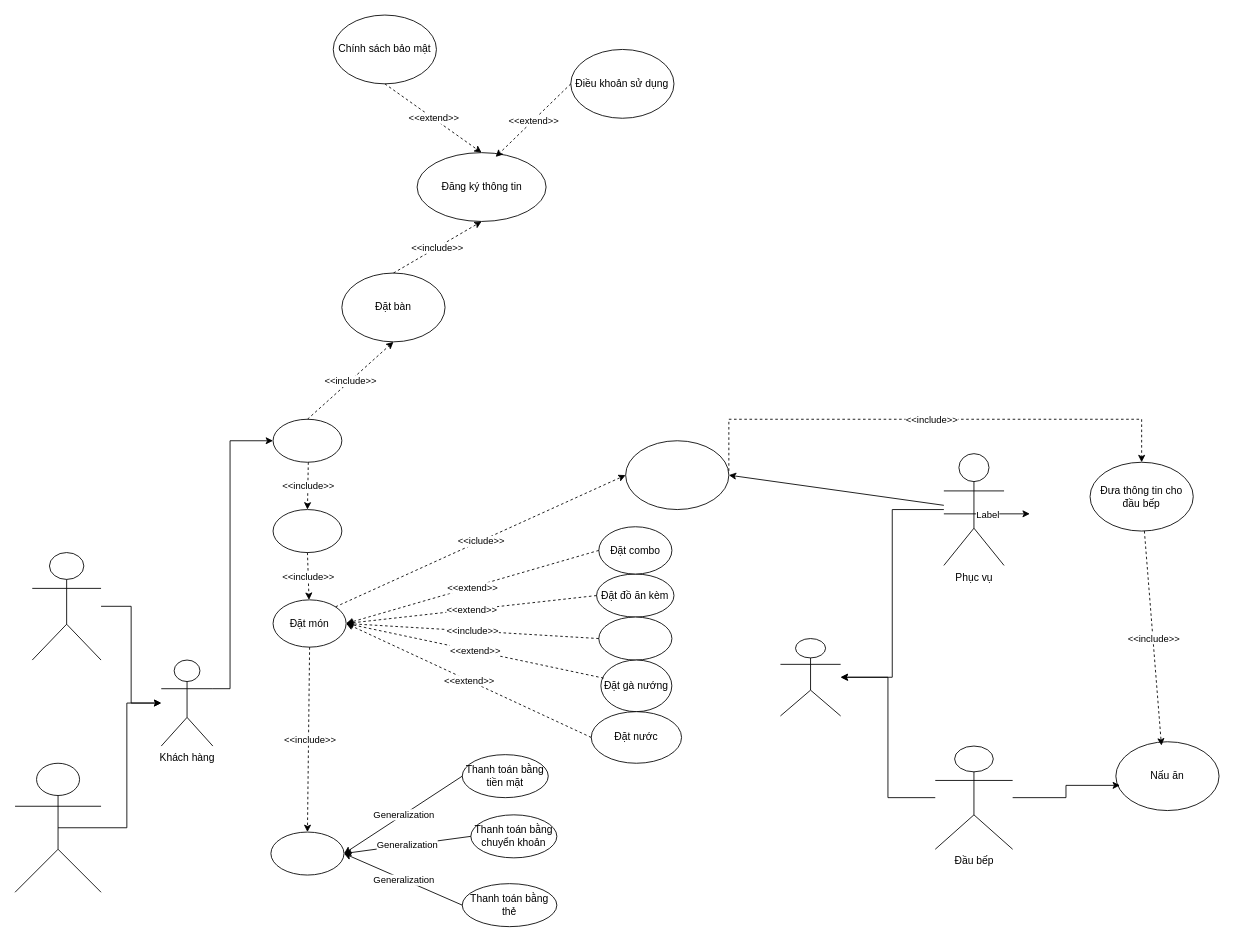
Image size: 1234x942. Some labels were removed from this diagram. The centre of each missing label's shape, as x and y in pixels:
"Khách hàng cũ" goes at point (57, 827).
"Khách hàng mới" goes at point (66, 606).
"Nhân viên" goes at point (810, 677).
"Thanh toán" goes at point (307, 853).
"Tiếp nhận thông tin" goes at point (677, 475).
"Vào trang của nhà hàng" goes at point (307, 440).
"Xem thực đơn" goes at point (307, 531).
"Đặt gà rán" goes at point (635, 638).
